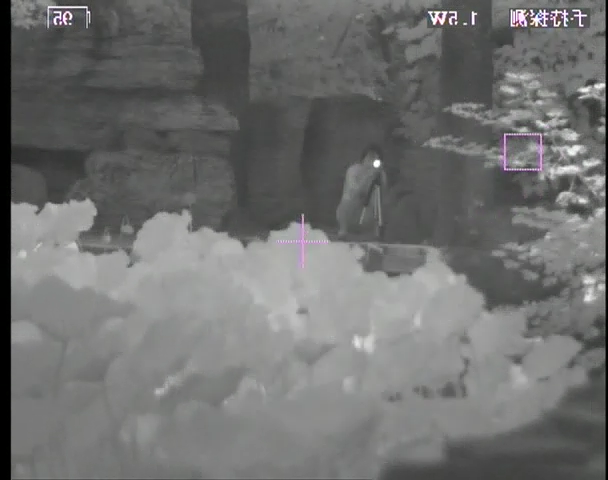my: (371, 157, 383, 169)
